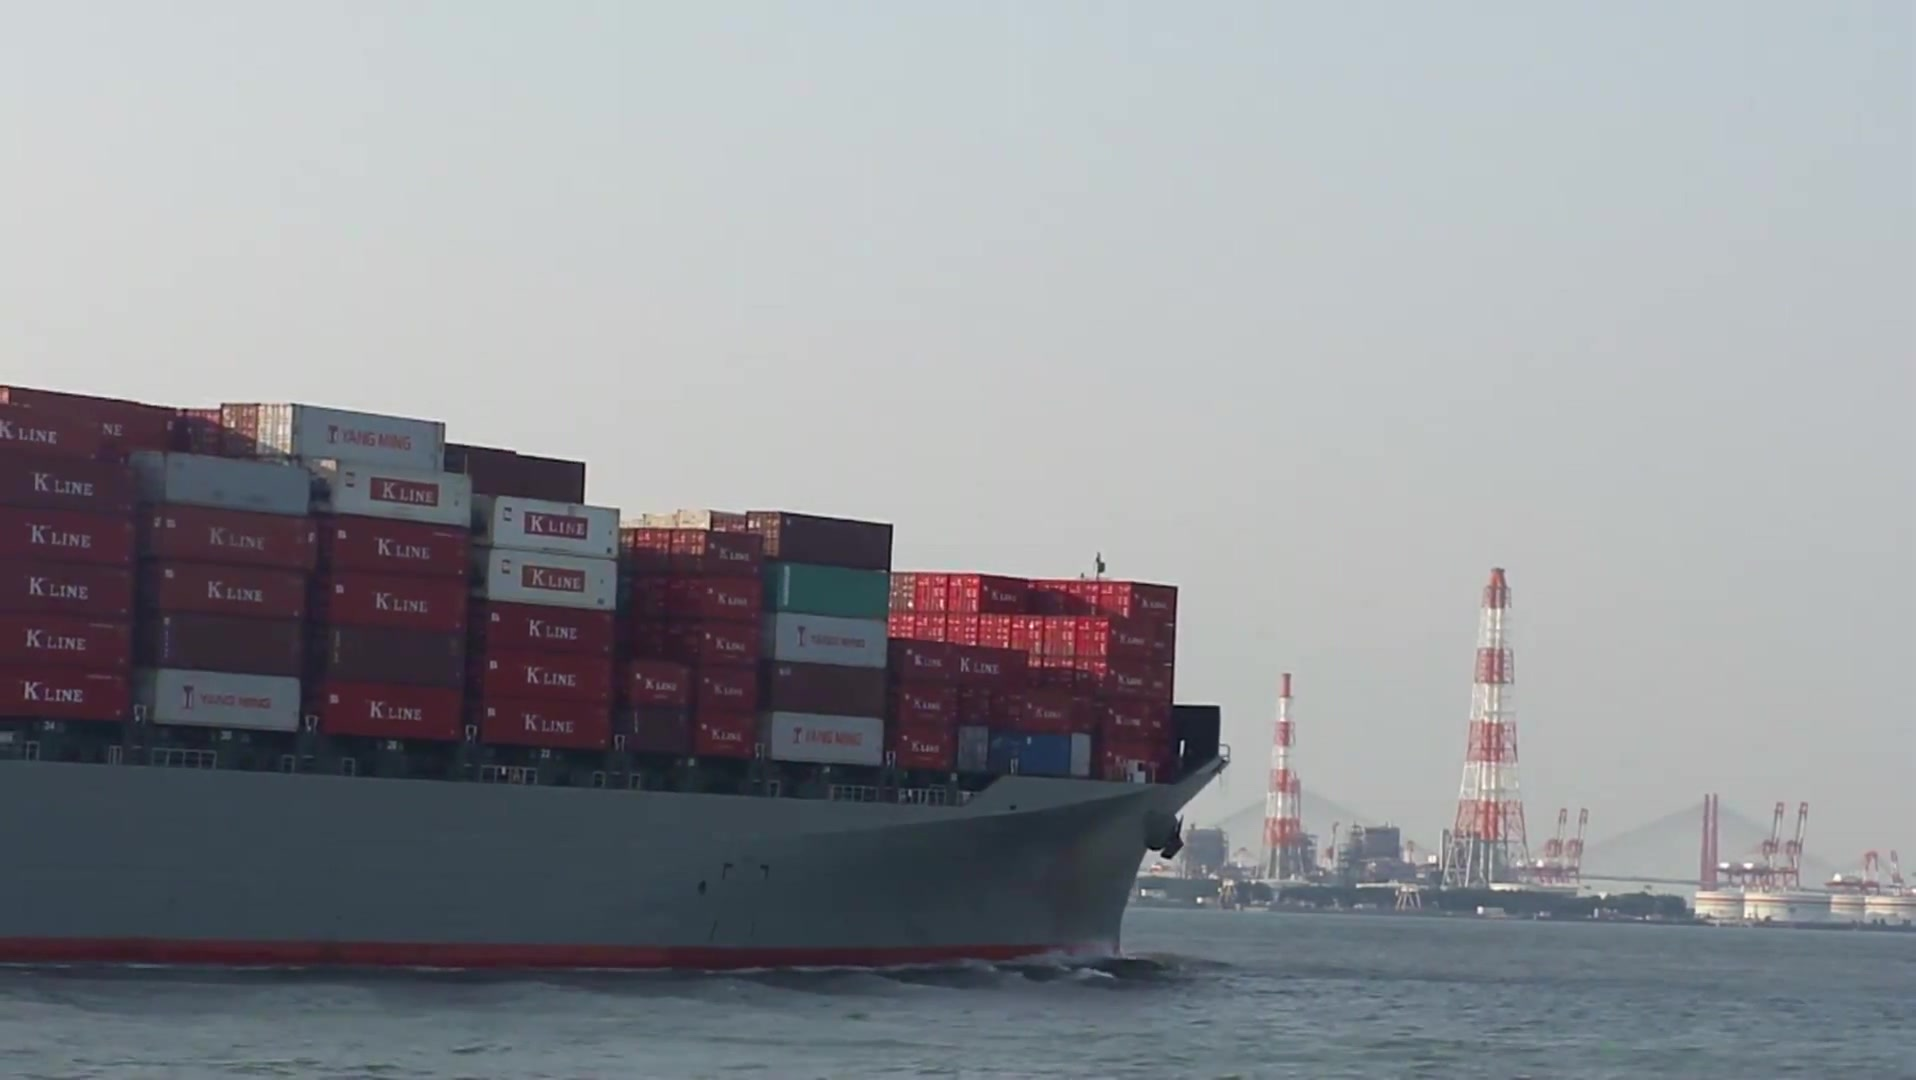boat: (3, 372, 1234, 975), (1130, 823, 1250, 906)
